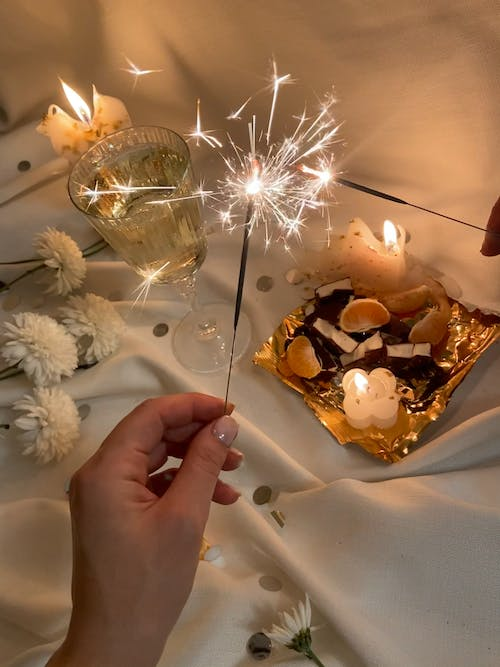alcohol: (66, 123, 253, 374)
